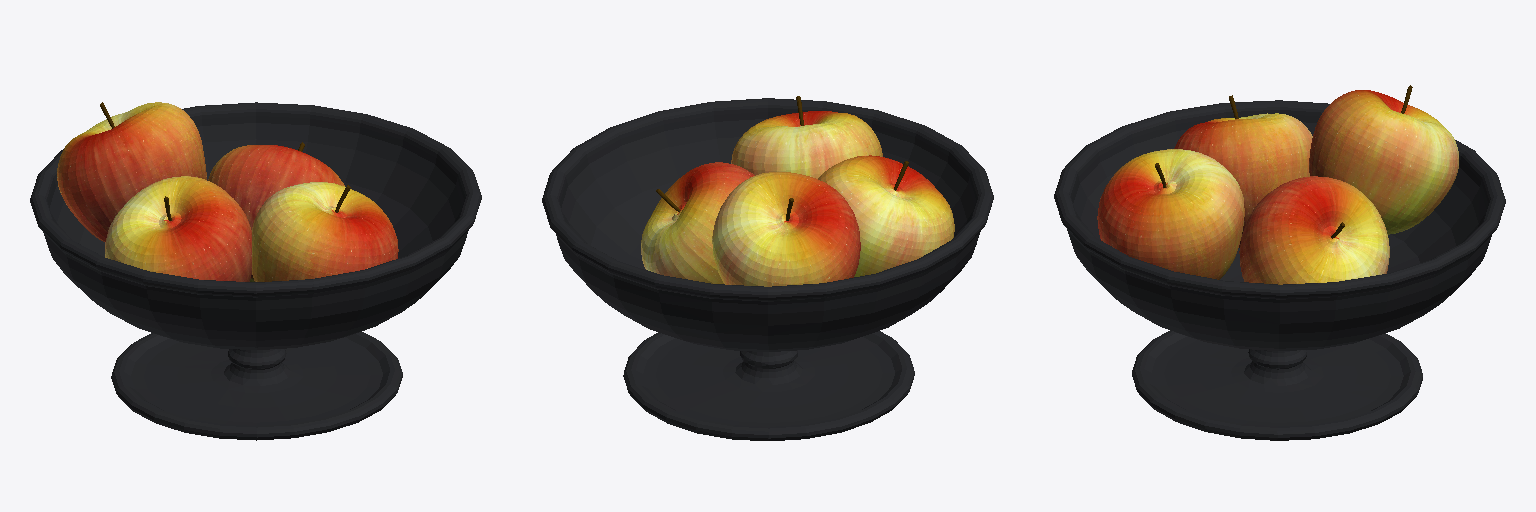
3 renders of one model, left to right at view 1: azimuth 30°, elevation 25°; view 2: azimuth 150°, elevation 25°; view 3: azimuth 270°, elevation 25°, orthographic.
Visible parts, largest first — view 1: Mesh9 Object_5_1 Assembly_10 Object_5 SimLab_2017_06_12_10_17_47, Mesh4 Object_1_2 Assembly_4 Object_1 SimLab_2017_06_12_10_17_47_, Mesh6 Object_4_2 Assembly_6 Object_4 SimLab_2017_06_12_10_17_47_, Mesh2 Object_3_2 Assembly_2 Object_3 SimLab_2017_06_12_10_17_47_, Mesh8 Object_2_2 Assembly_8 Object_2 SimLab_2017_06_12_10_17_47_; view 2: Mesh9 Object_5_1 Assembly_10 Object_5 SimLab_2017_06_12_10_17_47, Mesh4 Object_1_2 Assembly_4 Object_1 SimLab_2017_06_12_10_17_47_, Mesh6 Object_4_2 Assembly_6 Object_4 SimLab_2017_06_12_10_17_47_, Mesh8 Object_2_2 Assembly_8 Object_2 SimLab_2017_06_12_10_17_47_, Mesh2 Object_3_2 Assembly_2 Object_3 SimLab_2017_06_12_10_17_47_; view 3: Mesh9 Object_5_1 Assembly_10 Object_5 SimLab_2017_06_12_10_17_47, Mesh2 Object_3_2 Assembly_2 Object_3 SimLab_2017_06_12_10_17_47_, Mesh4 Object_1_2 Assembly_4 Object_1 SimLab_2017_06_12_10_17_47_, Mesh8 Object_2_2 Assembly_8 Object_2 SimLab_2017_06_12_10_17_47_, Mesh6 Object_4_2 Assembly_6 Object_4 SimLab_2017_06_12_10_17_47_.
Part boxes in pixels (x1,y1,x2,y2): Mesh9 Object_5_1 Assembly_10 Object_5 SimLab_2017_06_12_10_17_47: (30,102,481,440); Mesh4 Object_1_2 Assembly_4 Object_1 SimLab_2017_06_12_10_17_47_: (57,102,206,241); Mesh6 Object_4_2 Assembly_6 Object_4 SimLab_2017_06_12_10_17_47_: (105,176,251,281); Mesh2 Object_3_2 Assembly_2 Object_3 SimLab_2017_06_12_10_17_47_: (252,182,398,281); Mesh8 Object_2_2 Assembly_8 Object_2 SimLab_2017_06_12_10_17_47_: (208,145,344,281); Mesh9 Object_5_1 Assembly_10 Object_5 SimLab_2017_06_12_10_17_47: (542,98,993,440); Mesh4 Object_1_2 Assembly_4 Object_1 SimLab_2017_06_12_10_17_47_: (712,172,860,286); Mesh6 Object_4_2 Assembly_6 Object_4 SimLab_2017_06_12_10_17_47_: (818,155,954,276); Mesh8 Object_2_2 Assembly_8 Object_2 SimLab_2017_06_12_10_17_47_: (641,162,754,283); Mesh2 Object_3_2 Assembly_2 Object_3 SimLab_2017_06_12_10_17_47_: (731,111,882,178); Mesh9 Object_5_1 Assembly_10 Object_5 SimLab_2017_06_12_10_17_47: (1054,100,1505,440); Mesh2 Object_3_2 Assembly_2 Object_3 SimLab_2017_06_12_10_17_47_: (1097,149,1244,279); Mesh4 Object_1_2 Assembly_4 Object_1 SimLab_2017_06_12_10_17_47_: (1309,90,1458,234); Mesh8 Object_2_2 Assembly_8 Object_2 SimLab_2017_06_12_10_17_47_: (1239,176,1389,284); Mesh6 Object_4_2 Assembly_6 Object_4 SimLab_2017_06_12_10_17_47_: (1174,113,1312,247).
Bounding box in the file's own units: 65.02 × 40.4 × 65.02.
Materials: 3 (1 with a texture image).